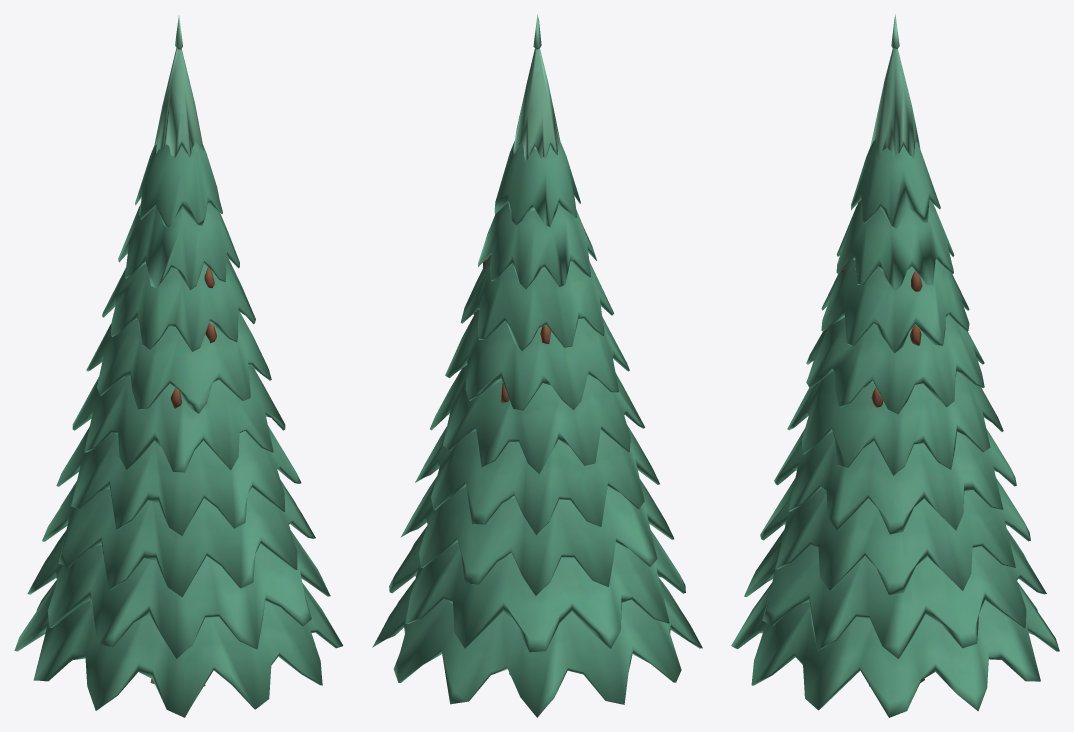
File: spruce-tree.glb
3 renders of one model, left to right at view 1: azimuth 30°, elevation 25°; view 2: azimuth 150°, elevation 25°; view 3: azimuth 270°, elevation 25°, orthographic.
Visible parts, largest first — view 1: spruce-tree_body; view 2: spruce-tree_body; view 3: spruce-tree_body.
Part boxes in pixels (x1=…): spruce-tree_body: x1=14, y1=15, x2=343, y2=717; spruce-tree_body: x1=372, y1=14, x2=702, y2=717; spruce-tree_body: x1=731, y1=14, x2=1059, y2=717.
Bounding box in the file's own units: 3.49 × 7.79 × 3.49.
Materials: 1 (1 with a texture image).
